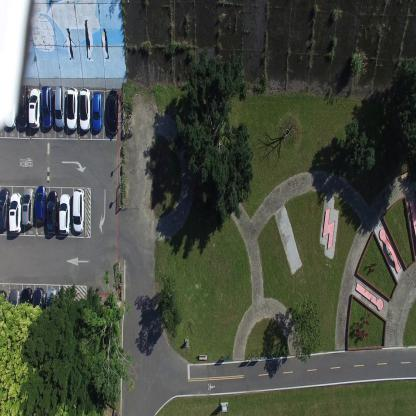car: (3, 84, 18, 128), (32, 286, 45, 333), (8, 192, 22, 235), (45, 189, 58, 235), (107, 88, 120, 133), (72, 188, 85, 233), (78, 87, 91, 131), (58, 192, 71, 236), (45, 287, 58, 331), (41, 85, 54, 128), (28, 87, 41, 129), (21, 187, 35, 226), (8, 288, 20, 333), (54, 85, 66, 129), (17, 84, 29, 128), (66, 87, 78, 130), (34, 185, 47, 224), (91, 90, 103, 132), (20, 286, 31, 331), (0, 187, 11, 231), (0, 290, 8, 334)
